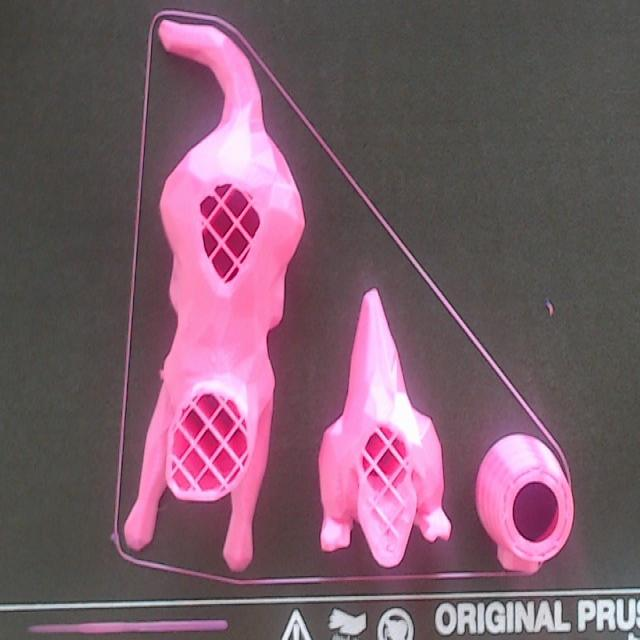mistake: (159, 365, 163, 380)
